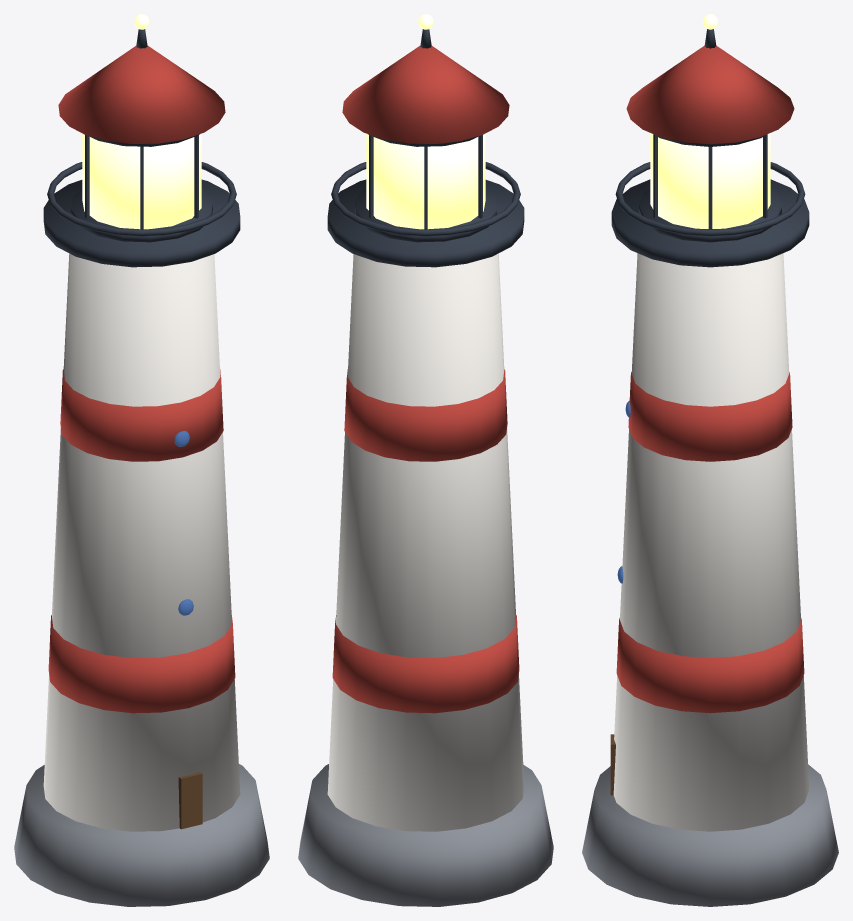
The model's file is xy_landmark_lighthouse.glb.
The picture shows the model from 3 angles, left to right: view 1: azimuth 30°, elevation 25°; view 2: azimuth 150°, elevation 25°; view 3: azimuth 270°, elevation 25°; orthographic projection.
Visible parts, largest first — view 1: xy_landmark_lighthouse; view 2: xy_landmark_lighthouse; view 3: xy_landmark_lighthouse.
Boxes of the visible parts, left/top/right/bottom form: xy_landmark_lighthouse: left=14, top=14, right=269, bottom=906; xy_landmark_lighthouse: left=298, top=14, right=553, bottom=906; xy_landmark_lighthouse: left=582, top=14, right=838, bottom=906.
Size of the model in its own units: 5.2 by 18.71 by 5.2.
